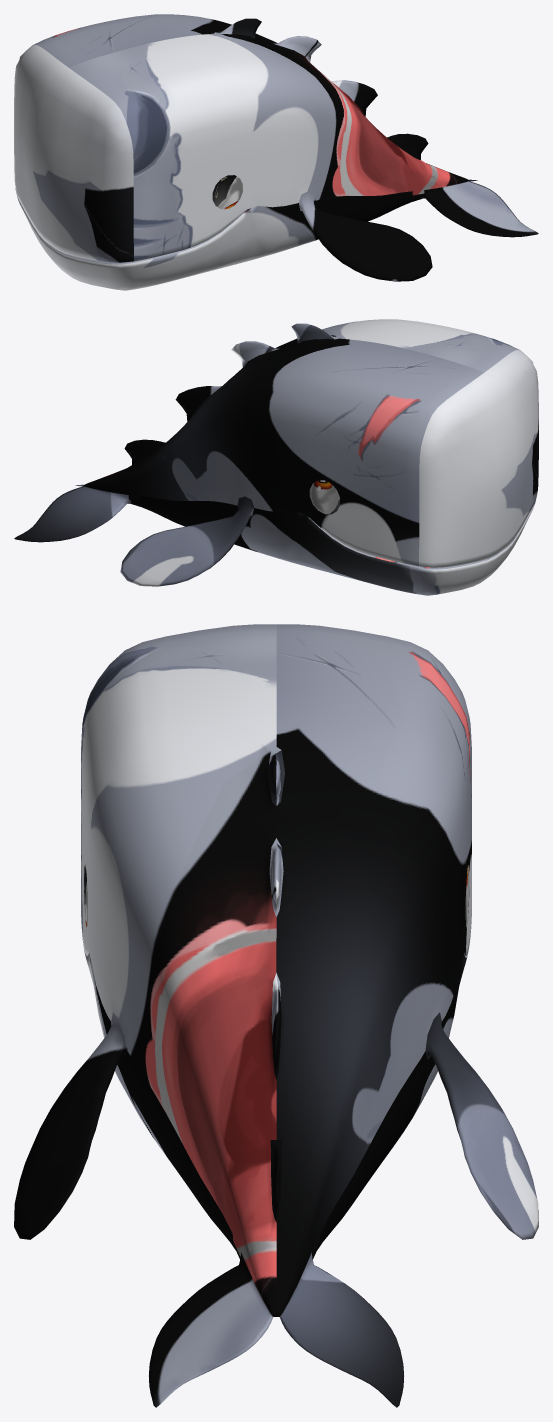
Rendered from Gora.FBX.
3 renders of one model, top to bottom at view 1: azimuth 30°, elevation 25°; view 2: azimuth 150°, elevation 25°; view 3: azimuth 270°, elevation 25°, orthographic. The views are drawn at different scales.
Visible parts, largest first — view 1: Box001, Sphere001; view 2: Box001, Sphere001; view 3: Box001.
Boxes of the visible parts, <box> form: Box001: <box>14,14,538,290</box>; Sphere001: <box>212,175,242,209</box>; Box001: <box>14,319,538,595</box>; Sphere001: <box>309,480,339,514</box>; Box001: <box>14,624,538,1407</box>.
Size of the model in its own units: 142 by 74.13 by 81.79.
